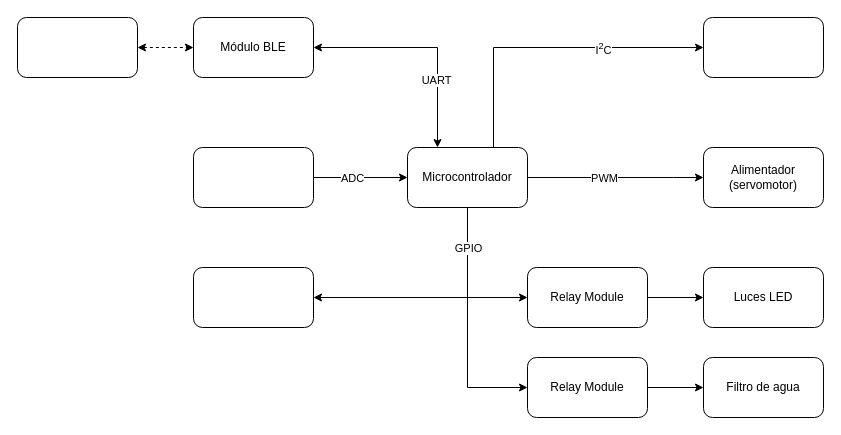
The diagram is 841 pixels wide and 435 high, and some of its shapes have lost their labels. The box of each missing label's shape, as (x1, y1, x2, y2) in pixels:
APP: (16, 16, 138, 78)
Display LCD: (702, 16, 824, 78)
Indicadores - LEDs - Buzzer: (192, 266, 314, 328)
Termómetro: (192, 146, 314, 208)
